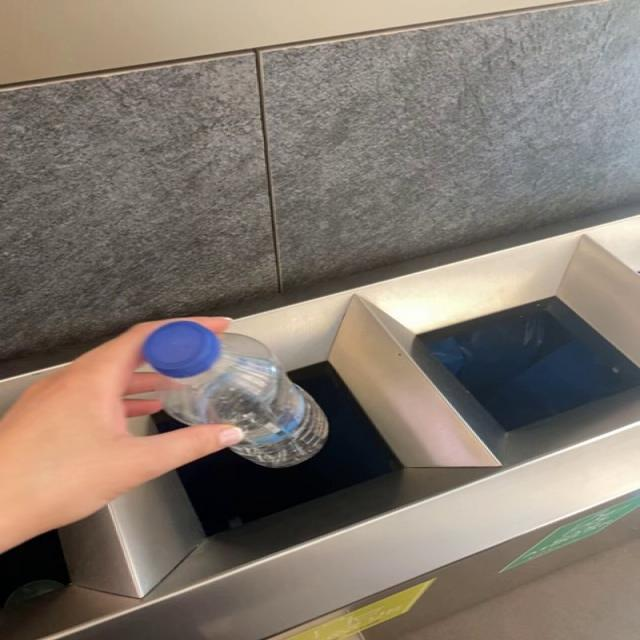Plastic: (141, 321, 328, 468)
